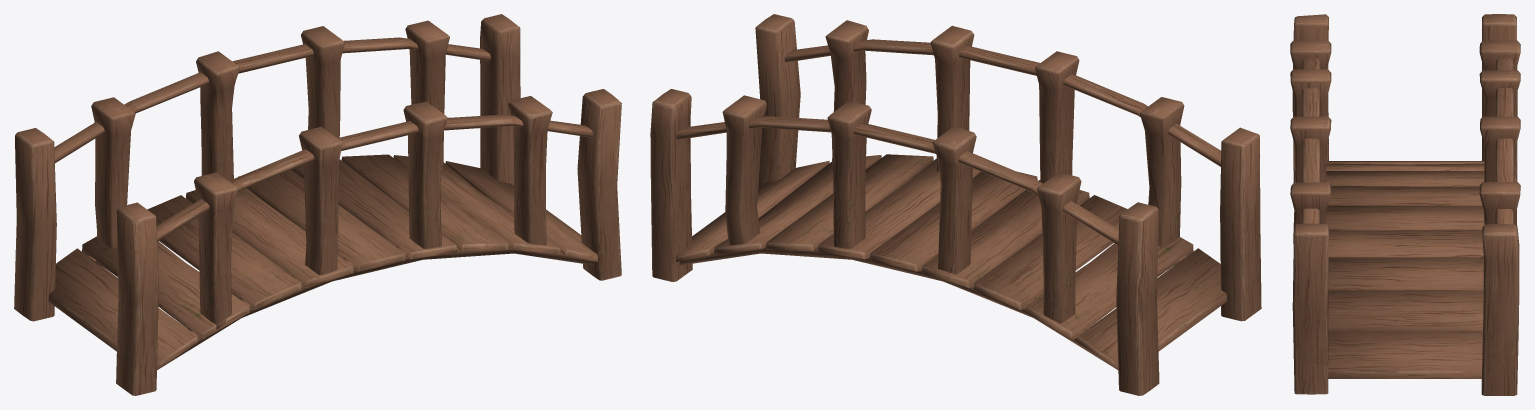
The model's file is PRP_AquBridge.glb.
The picture shows the model from 3 angles, left to right: view 1: azimuth 30°, elevation 25°; view 2: azimuth 150°, elevation 25°; view 3: azimuth 270°, elevation 25°; orthographic projection. The views are drawn at different scales.
Parts seen in each view (by area): view 1: Bridge_low_Bridge_0; view 2: Bridge_low_Bridge_0; view 3: Bridge_low_Bridge_0.
Part boxes in pixels (x1,y1,x2,y2): Bridge_low_Bridge_0: [14, 14, 621, 395]; Bridge_low_Bridge_0: [650, 14, 1261, 395]; Bridge_low_Bridge_0: [1290, 14, 1520, 395].
Bounding box in the file's own units: 3.83 × 1.53 × 1.68.
1 material, 1 textured.
